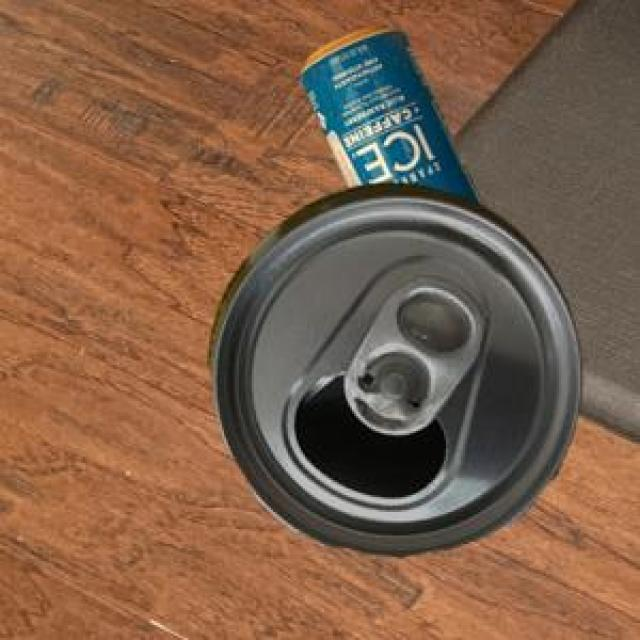Can: (206, 180, 579, 554), (298, 22, 481, 204)
